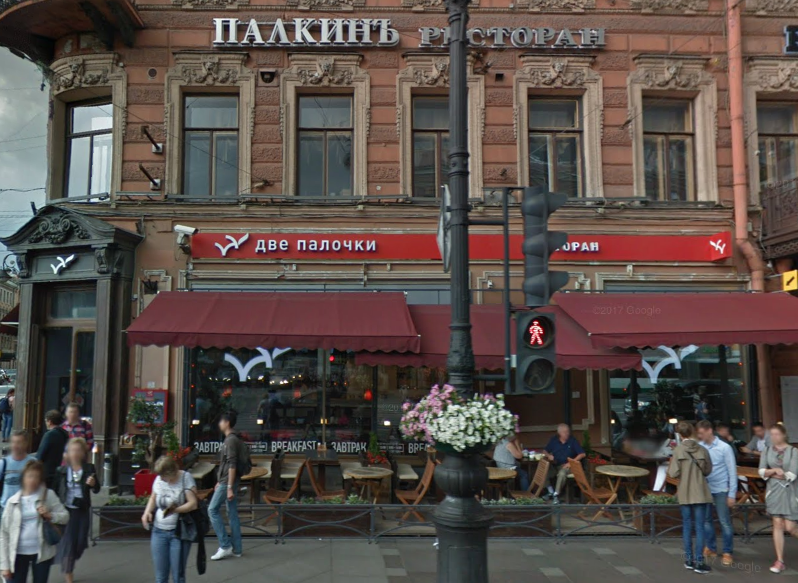door: (36, 289, 95, 445)
signboard: (190, 230, 739, 264), (202, 9, 610, 52)
window: (194, 352, 429, 452), (179, 85, 239, 201), (639, 89, 695, 204), (527, 89, 586, 198), (300, 89, 352, 210), (56, 99, 117, 200), (409, 88, 451, 198)
